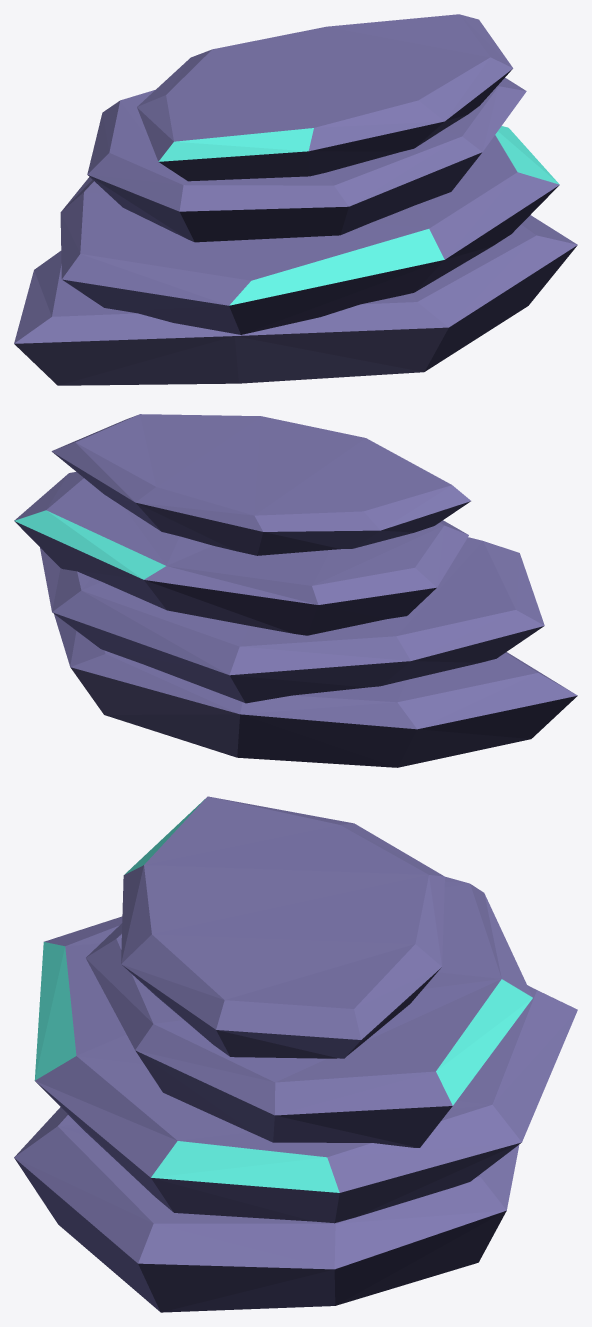
File: rock_mesa_deep.fbx
3 views of the same model, one above another, from view 1: azimuth 30°, elevation 25°; view 2: azimuth 150°, elevation 25°; view 3: azimuth 270°, elevation 25° (orthographic). The views are drawn at different scales.
Parts seen in each view (by area): view 1: rock_mesa_deep; view 2: rock_mesa_deep; view 3: rock_mesa_deep.
Part boxes in pixels (x1,y1,x2,y2): rock_mesa_deep: (14, 14, 577, 385); rock_mesa_deep: (14, 414, 577, 767); rock_mesa_deep: (14, 796, 577, 1312).
Size of the model in its own units: 2543 by 1092 by 1798.
1 material, 1 textured.
